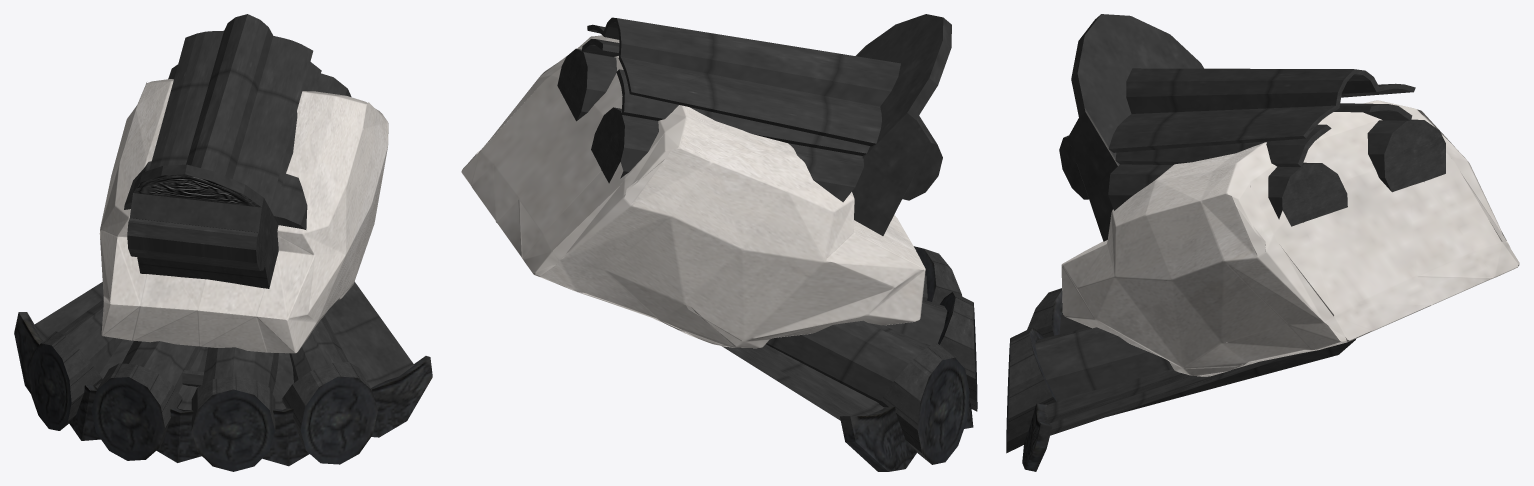
Rendered from SM_JSH_HG_RoofH.fbx.
3 views of the same model, side by side, from view 1: azimuth 30°, elevation 25°; view 2: azimuth 150°, elevation 25°; view 3: azimuth 270°, elevation 25° (orthographic). The views are drawn at different scales.
Visible parts, largest first — view 1: SM_JSH_HG_RoofH; view 2: SM_JSH_HG_RoofH; view 3: SM_JSH_HG_RoofH.
Part boxes in pixels (x1=…): SM_JSH_HG_RoofH: x1=14, y1=14, x2=432, y2=471; SM_JSH_HG_RoofH: x1=461, y1=14, x2=977, y2=471; SM_JSH_HG_RoofH: x1=1006, y1=14, x2=1519, y2=471.
Bounding box in the file's own units: 58.57 × 58.34 × 51.33.
1 material, 1 textured.
